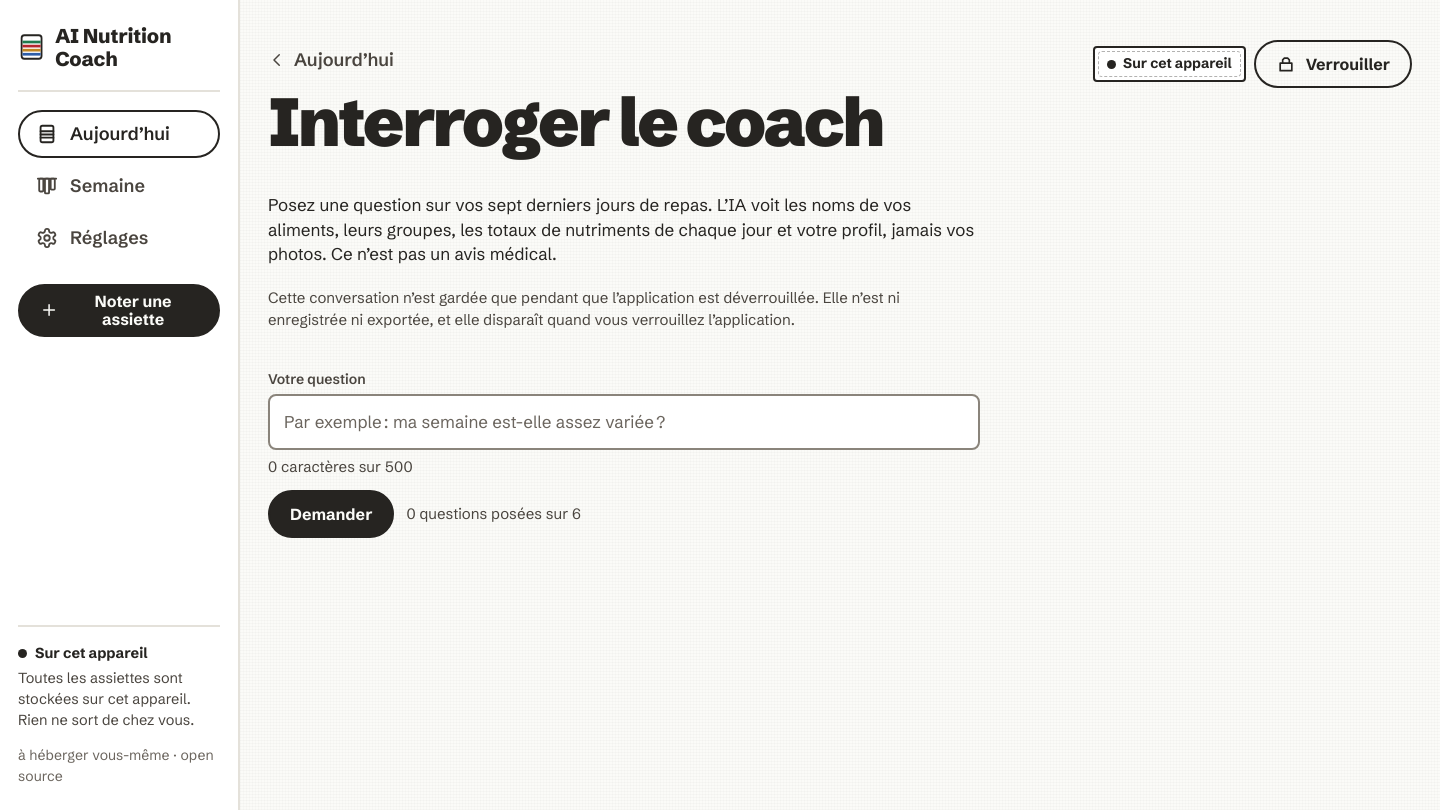
Scenario: Ask the coach: the chat › a French worry is routed locally too, in French
Expected: the heading "Interroger le coach" is shown, [268,92,882,153]
Type "je me fais vomir après les repas" into the field labelled "Votre question" at (624, 422), box [270,396,978,448]
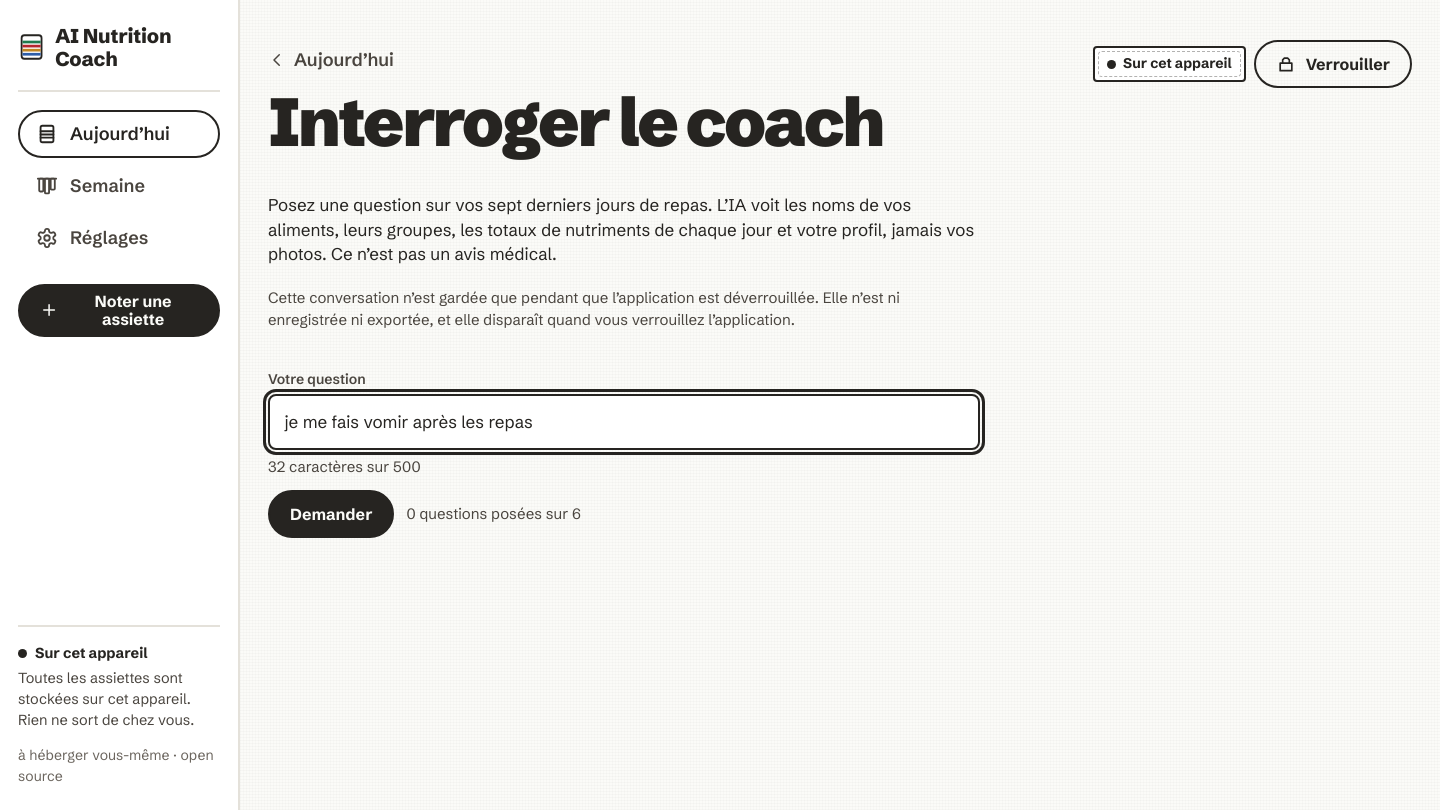
Click the button "Demander" at (331, 514), box [268,490,394,538]
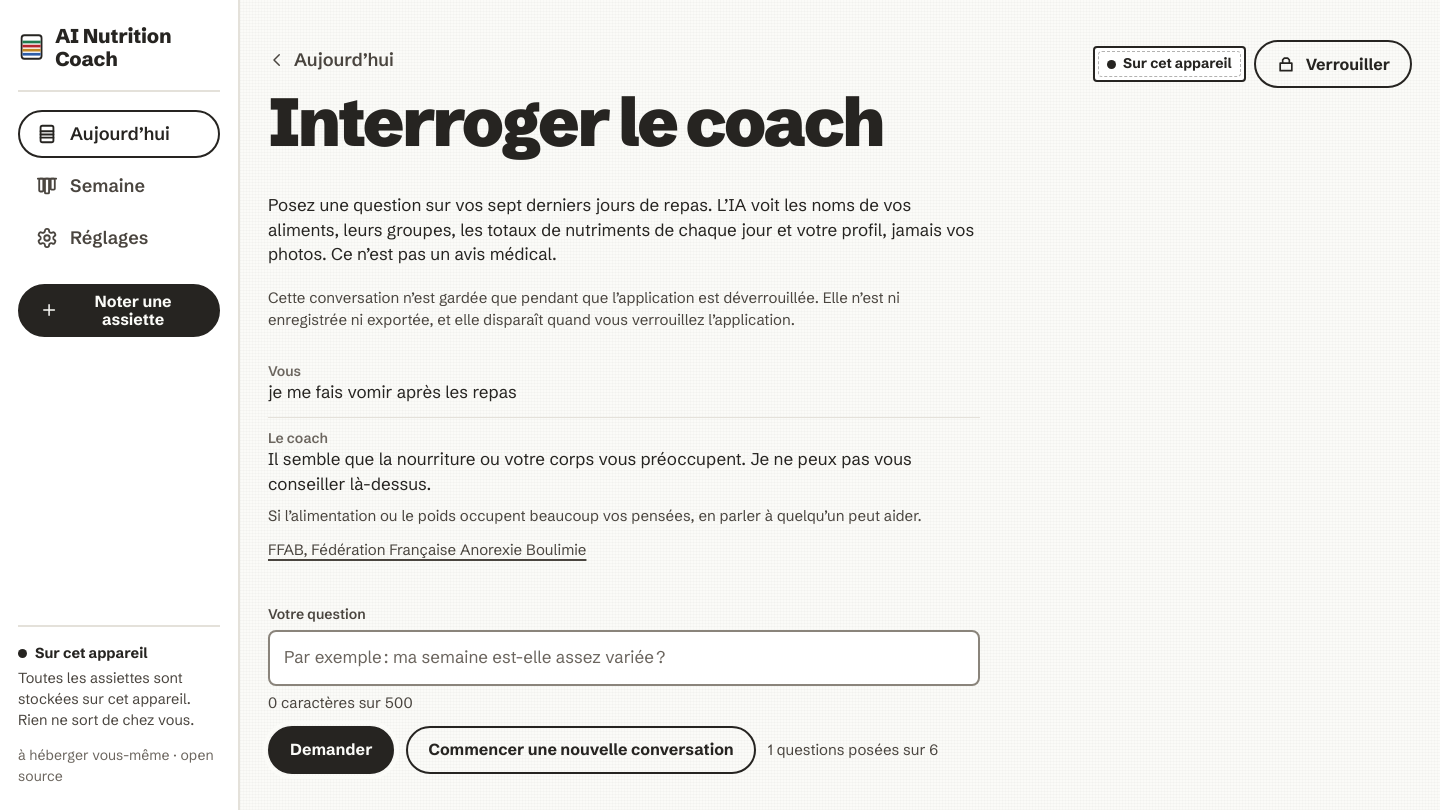
Expected: the text "vous préoccupent" is shown, [268,448,912,494]
